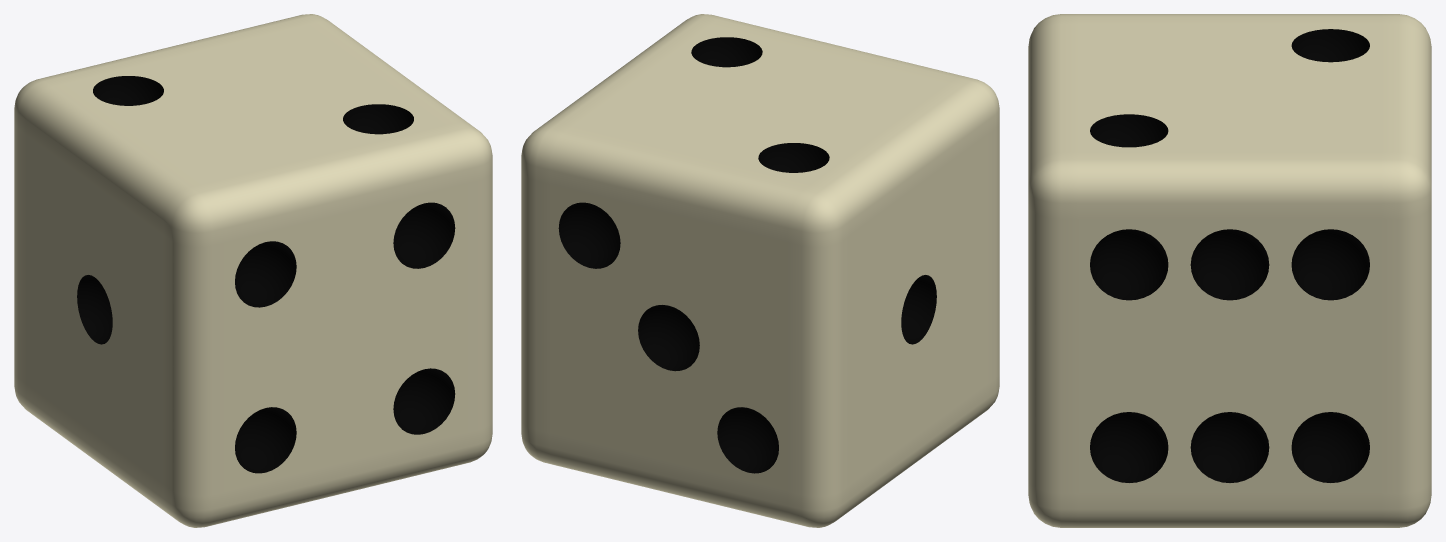
The model's file is dice_model.glb.
The picture shows the model from 3 angles, left to right: view 1: azimuth 30°, elevation 25°; view 2: azimuth 150°, elevation 25°; view 3: azimuth 270°, elevation 25°; orthographic projection. The views are drawn at different scales.
Parts seen in each view (by area): view 1: New Die; view 2: New Die; view 3: New Die.
Part boxes in pixels (x1,y1,x2,y2): New Die: [14, 14, 492, 527]; New Die: [521, 14, 999, 527]; New Die: [1028, 14, 1431, 527].
Size of the model in its own units: 0.008 by 0.008 by 0.008.
